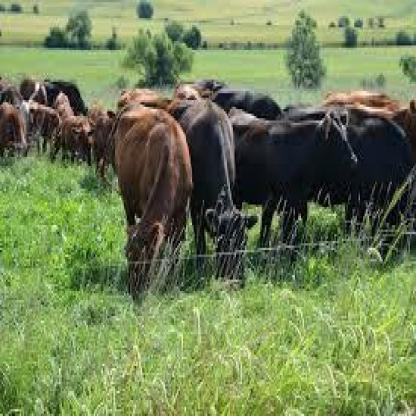cow: (225, 107, 360, 259), (165, 98, 260, 284), (110, 106, 194, 306), (19, 100, 61, 159), (0, 95, 30, 165), (61, 118, 92, 168)
